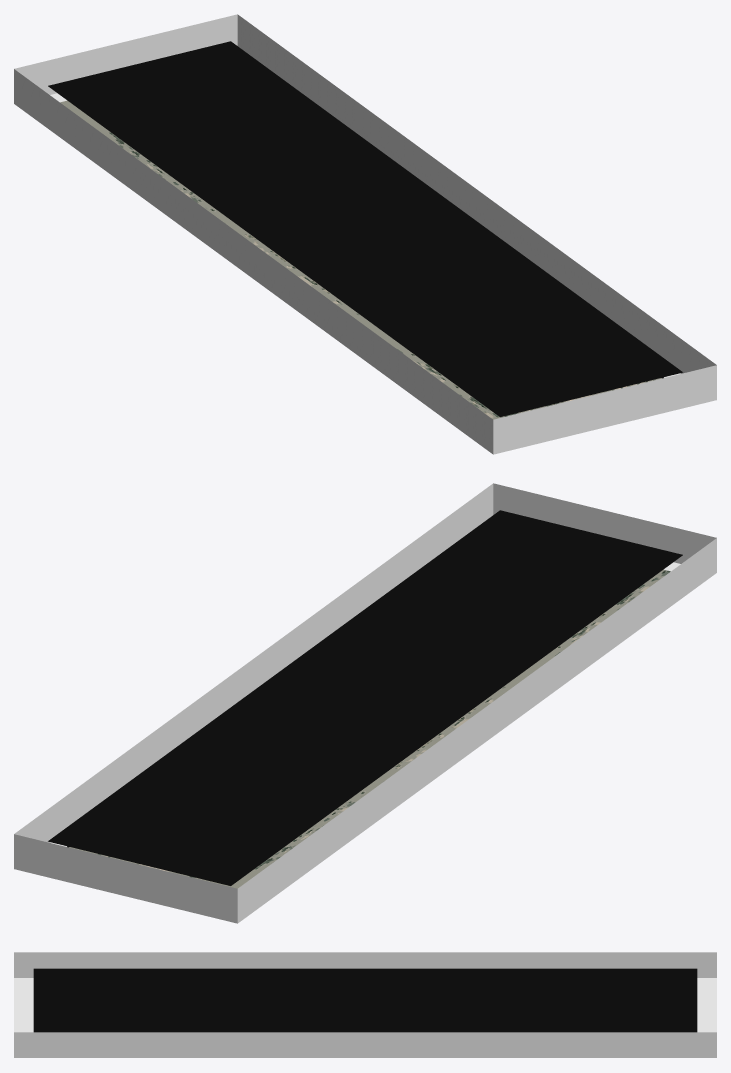
File: Grid_Clean.fbx
3 views of the same model, one above another, from view 1: azimuth 30°, elevation 25°; view 2: azimuth 150°, elevation 25°; view 3: azimuth 270°, elevation 25° (orthographic). The views are drawn at different scales.
Parts seen in each view (by area): view 1: GridRoofClean; view 2: GridRoofClean; view 3: GridRoofClean.
Boxes of the visible parts, left/top/right/bottom form: GridRoofClean: left=14, top=14, right=716, bottom=454; GridRoofClean: left=14, top=483, right=716, bottom=923; GridRoofClean: left=14, top=952, right=716, bottom=1057.
Bounding box in the file's own units: 53.89 × 8.75 × 200.
